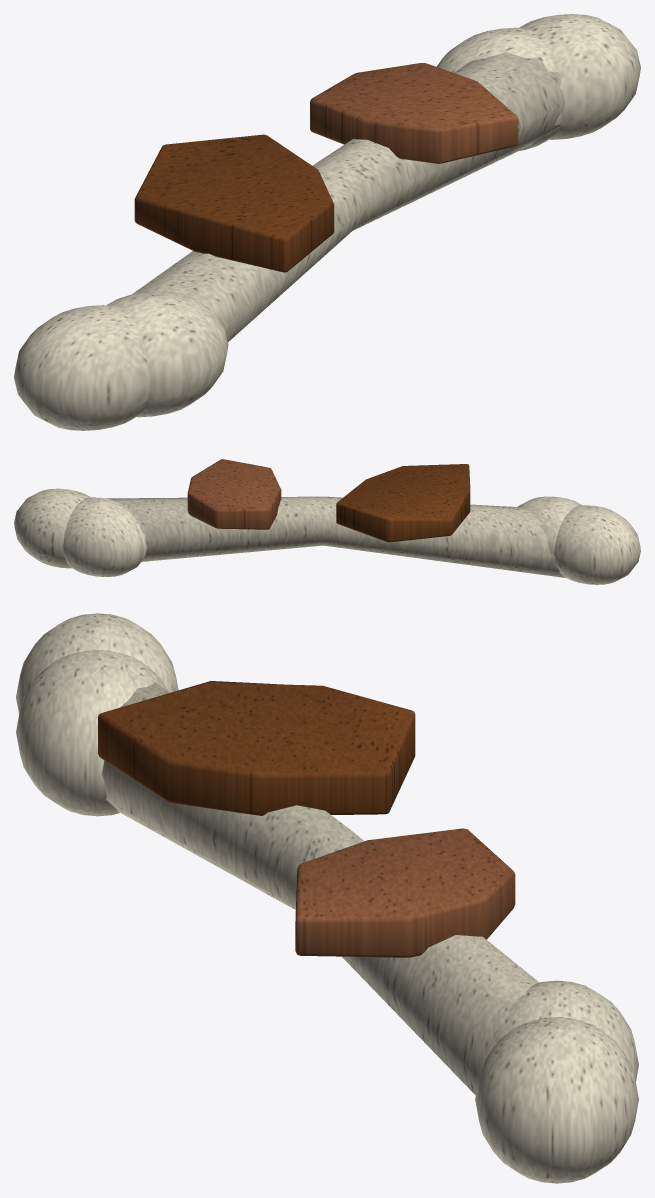
The model's file is food-12-full.glb.
The picture shows the model from 3 angles, top to bottom: view 1: azimuth 30°, elevation 25°; view 2: azimuth 150°, elevation 25°; view 3: azimuth 270°, elevation 25°; orthographic projection. The views are drawn at different scales.
Parts seen in each view (by area): view 1: Food; view 2: Food; view 3: Food.
Part boxes in pixels (x1=…): Food: x1=14, y1=14, x2=640, y2=430; Food: x1=14, y1=459, x2=640, y2=584; Food: x1=16, y1=613, x2=638, y2=1183.
Bounding box in the file's own units: 0.71 × 0.1203 × 0.38.
1 material, 1 textured.
